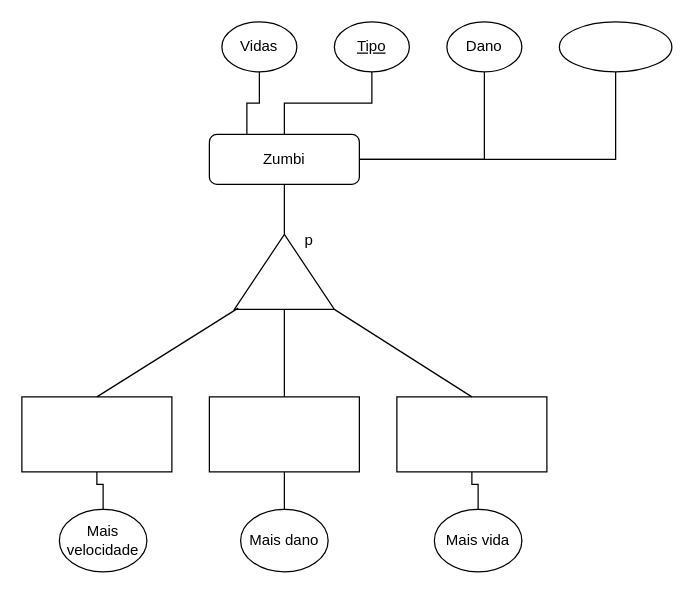
Some shapes in this 694 by 594 pixel diagram are drawn without their labels. Each missing label, with the centre of its shape:
"Baiacu" goes at point (471, 434).
"Corredores" goes at point (96, 434).
"Estaladores" goes at point (283, 434).
"Velocidade" goes at point (615, 46).
